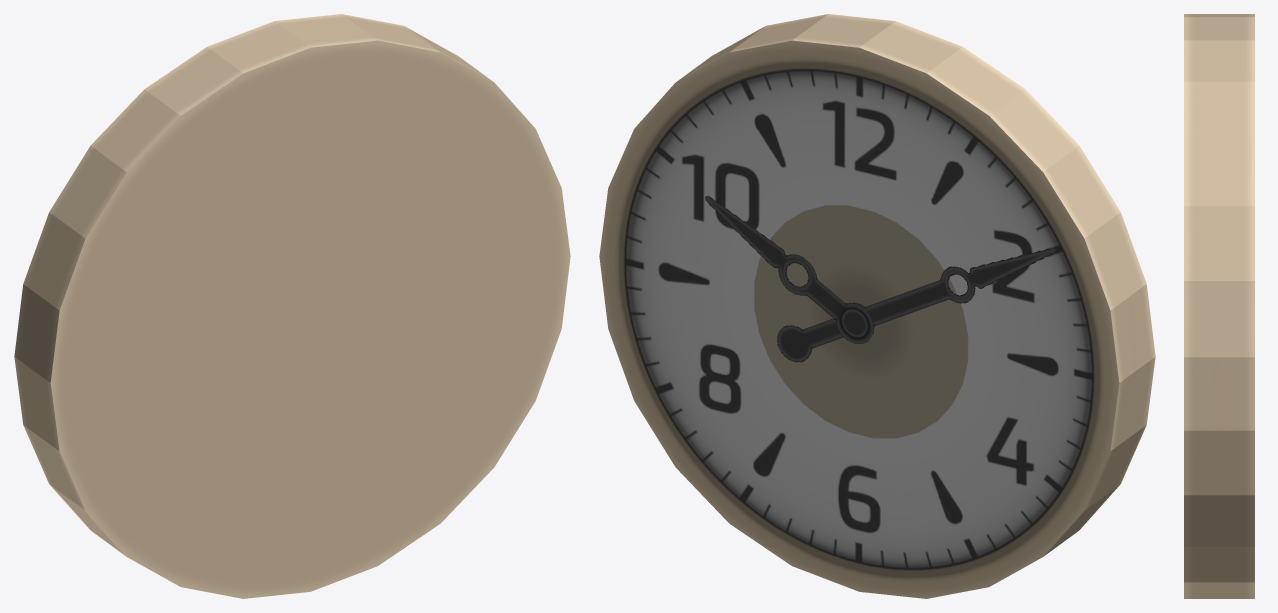
File: P_Clock_004_S1_M03.obj
3 renders of one model, left to right at view 1: azimuth 30°, elevation 25°; view 2: azimuth 150°, elevation 25°; view 3: azimuth 270°, elevation 25°, orthographic. The views are drawn at different scales.
Size of the model in its own units: 0.6574 by 0.6574 by 0.0895.
3 materials, 3 textured.
